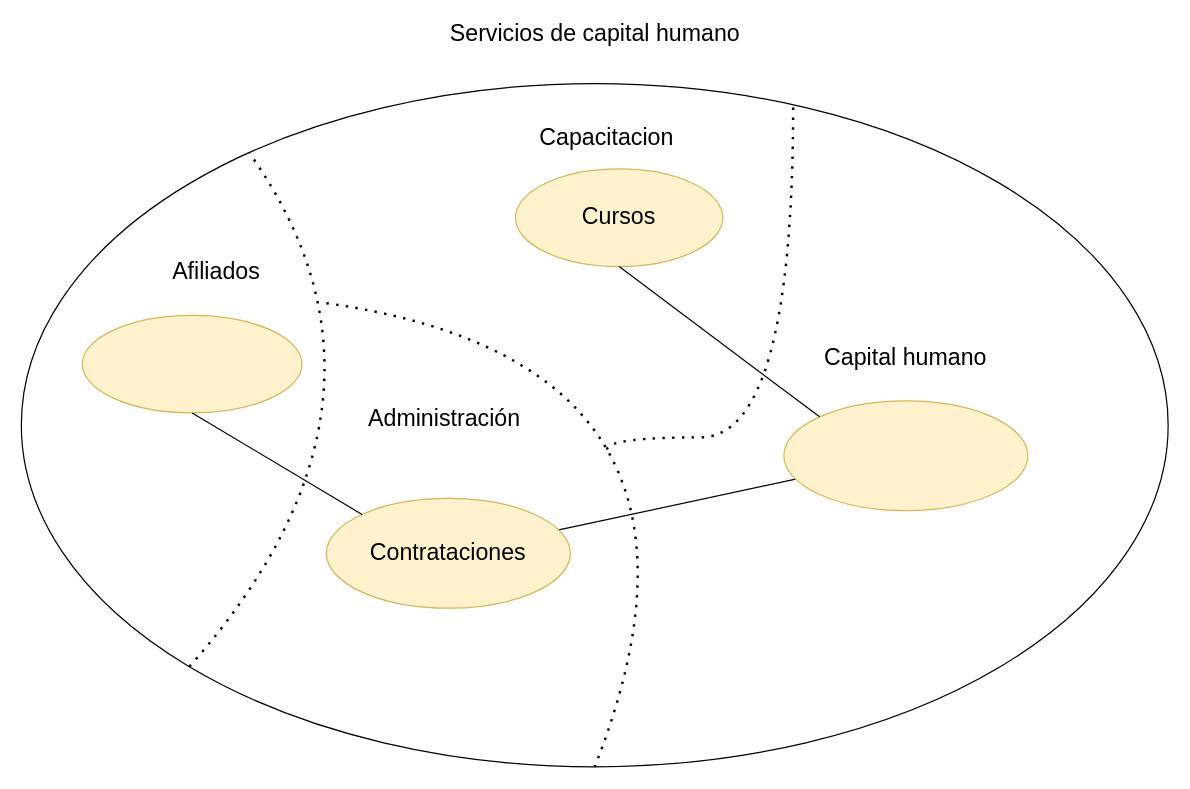
The diagram is 1190 pixels wide and 789 high, and some of its shapes have lost their labels. Here are the shapes that lost their labels. From the top down, the centre of each, then its label:
the point at 191,363: Empresas
the point at 905,455: Empleados
